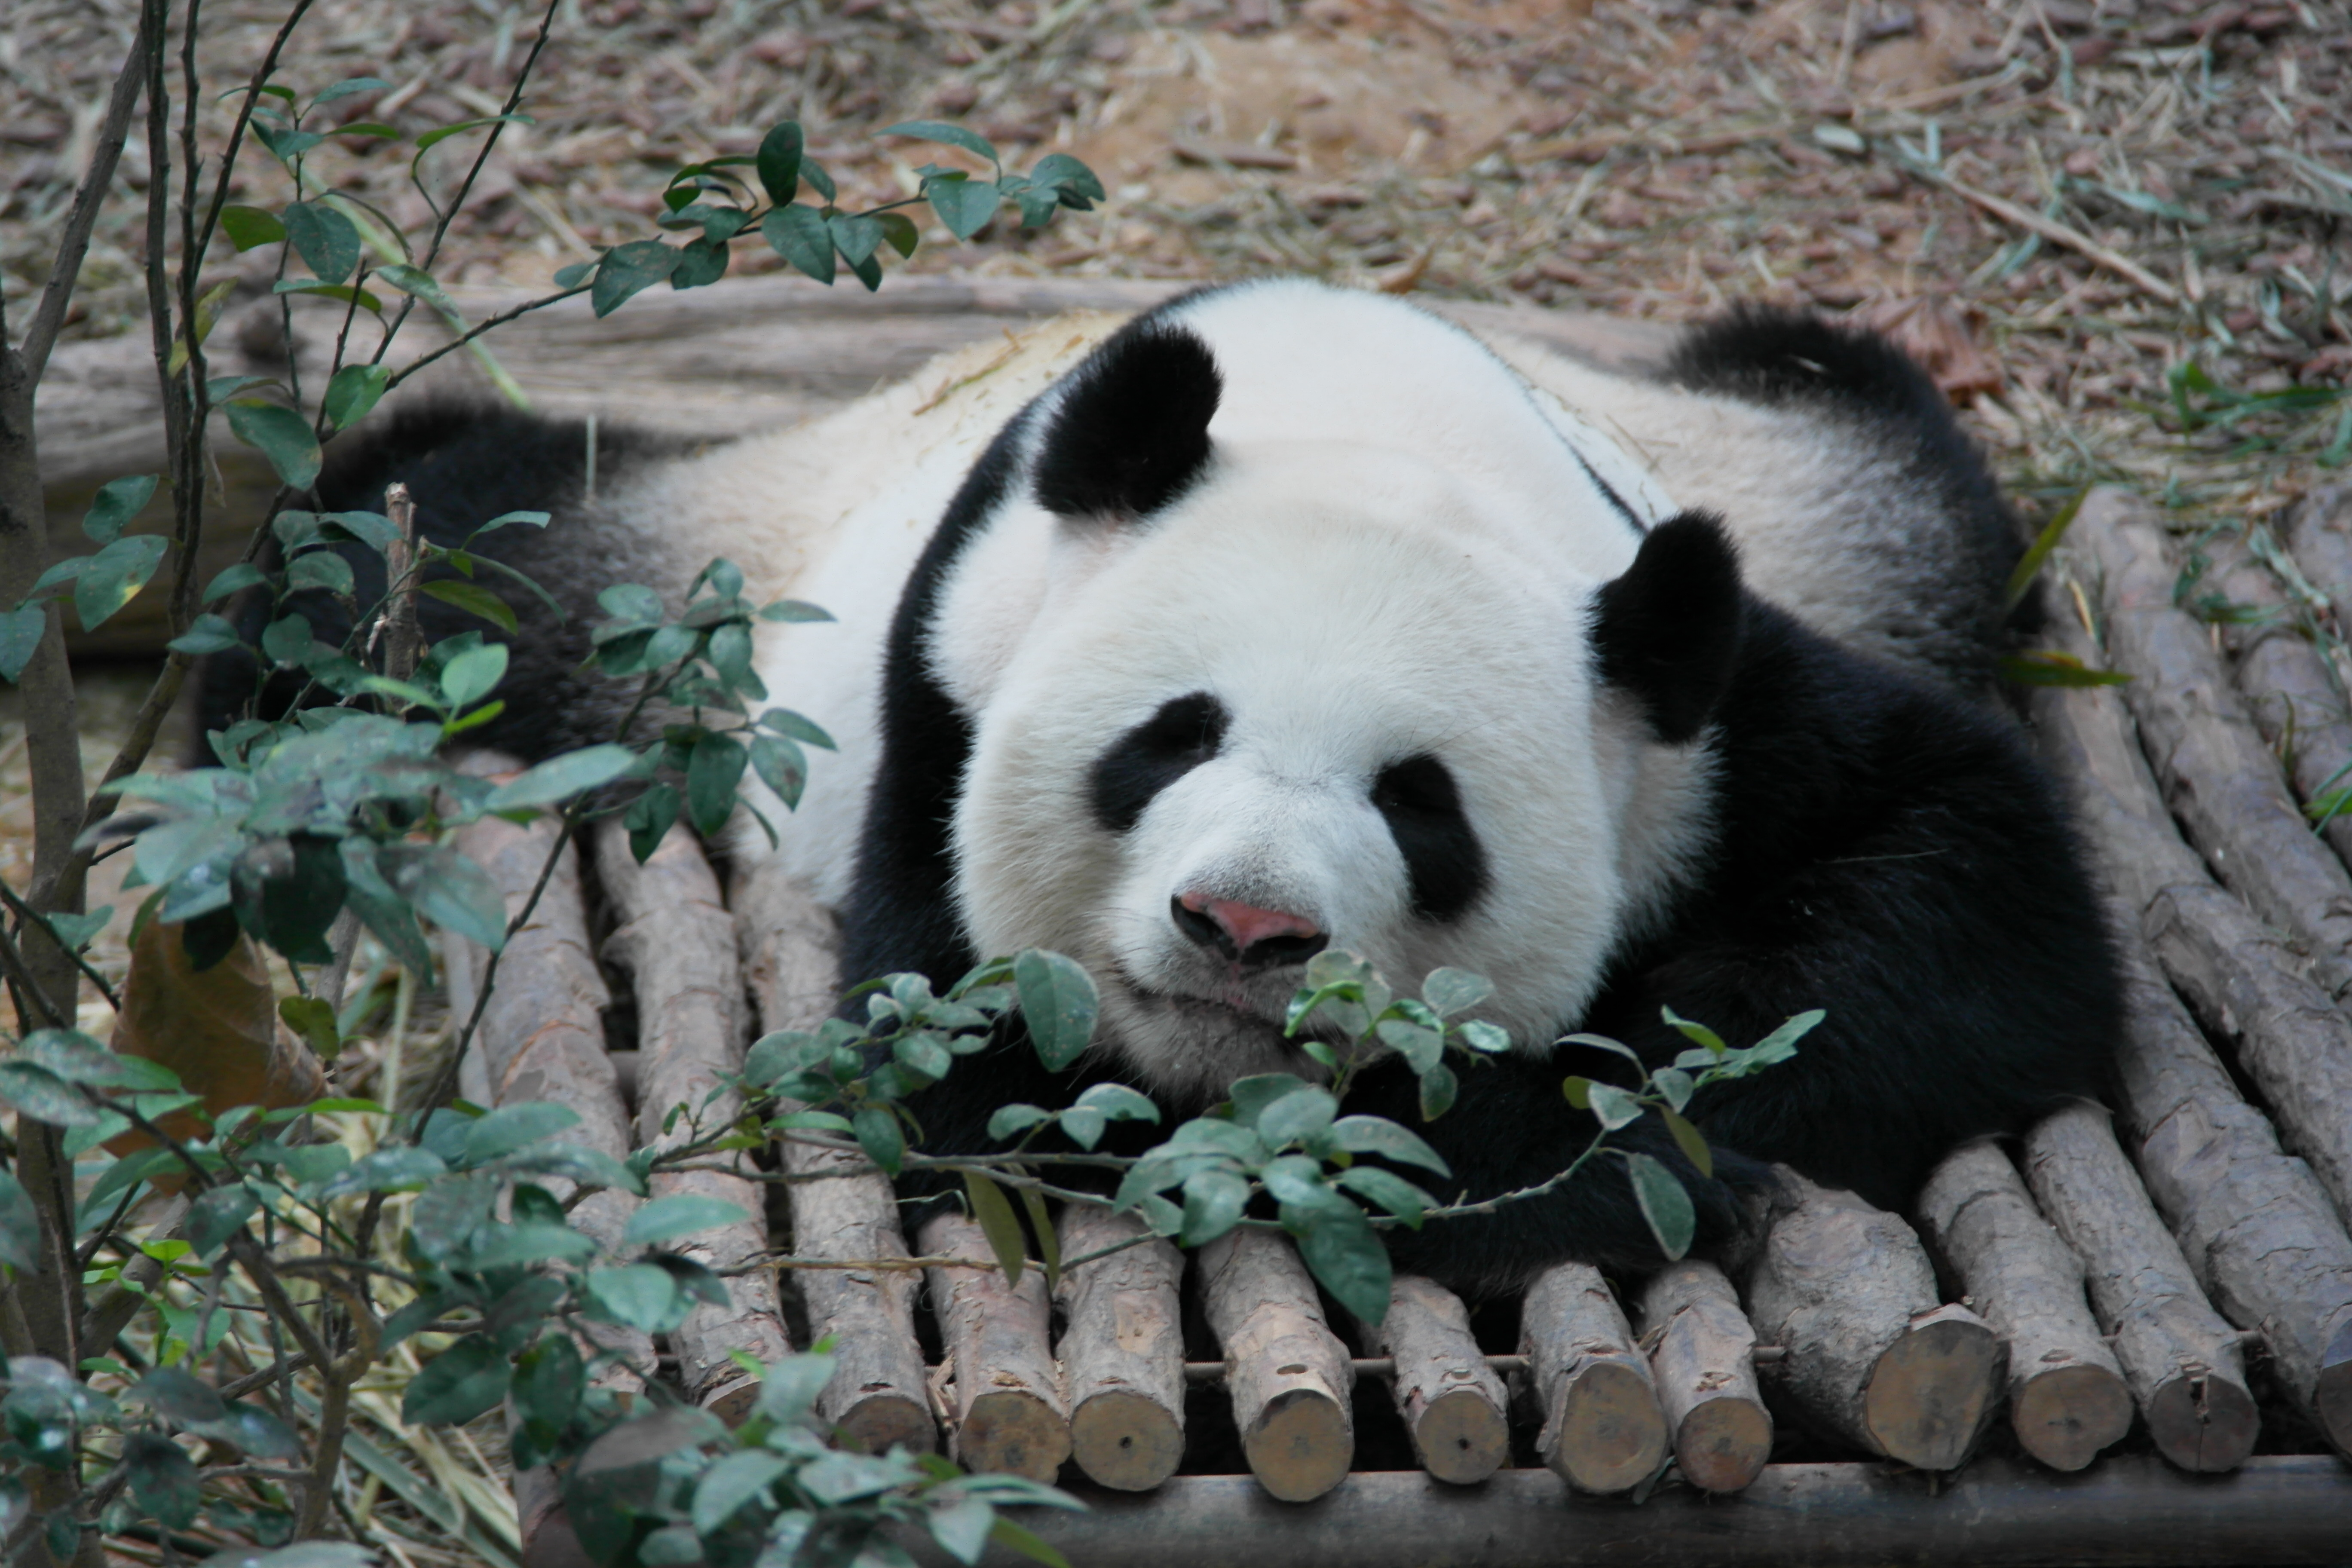panda: (630, 241, 2135, 1228)
